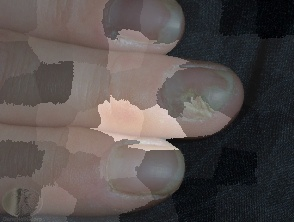Nail_psoriasis: (152, 61, 245, 132), (99, 0, 183, 51), (99, 170, 185, 206)
